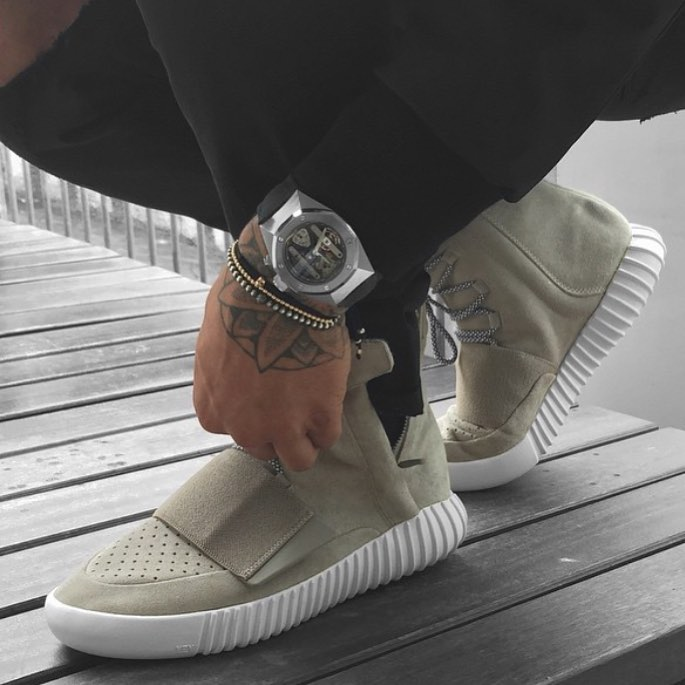sneaker: (31, 262, 484, 682), (360, 146, 680, 513)
